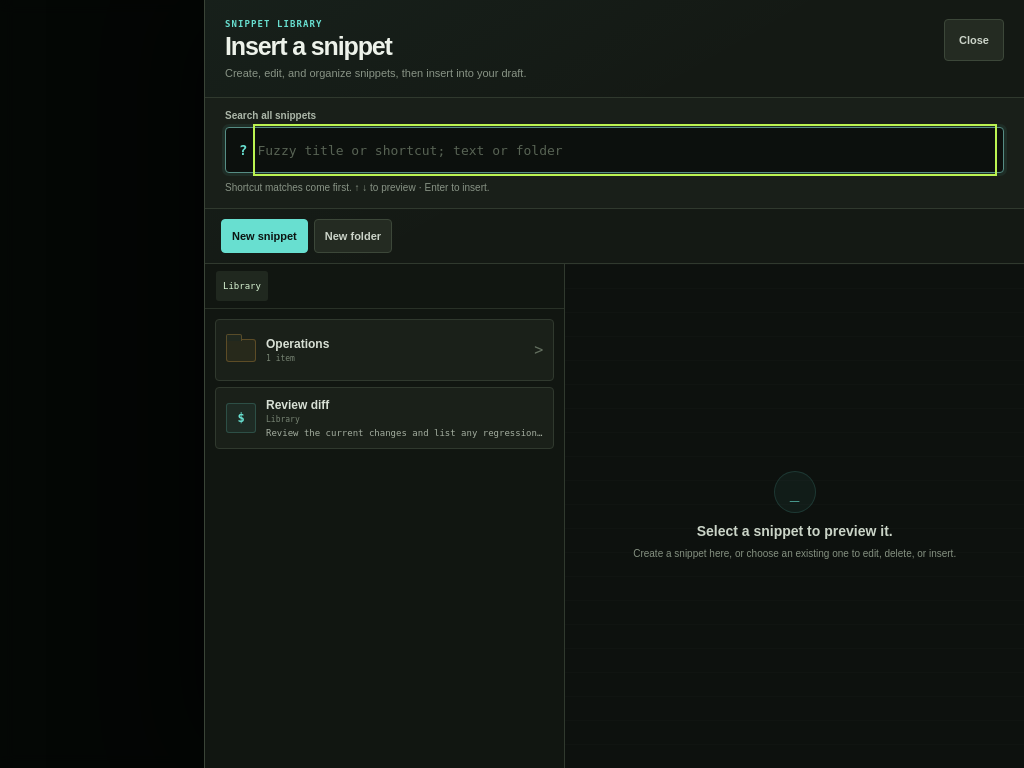
Test: SnippetPickerDialog › retains the picker and reports a rejected insertion
Step 1. Click the button with aria-label "Preview snippet Review diff" → [298, 405], box top-left (215, 387), bottom-right (554, 449)
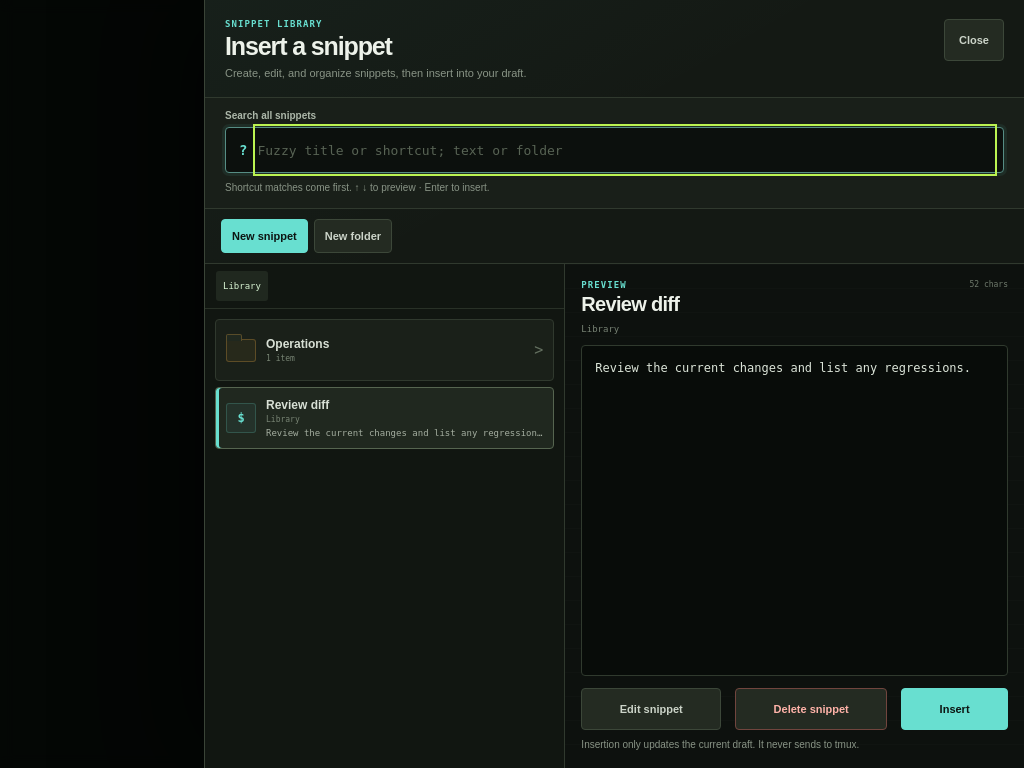
Step 2. Click the button "Insert" → [955, 709], box top-left (901, 688), bottom-right (1008, 730)
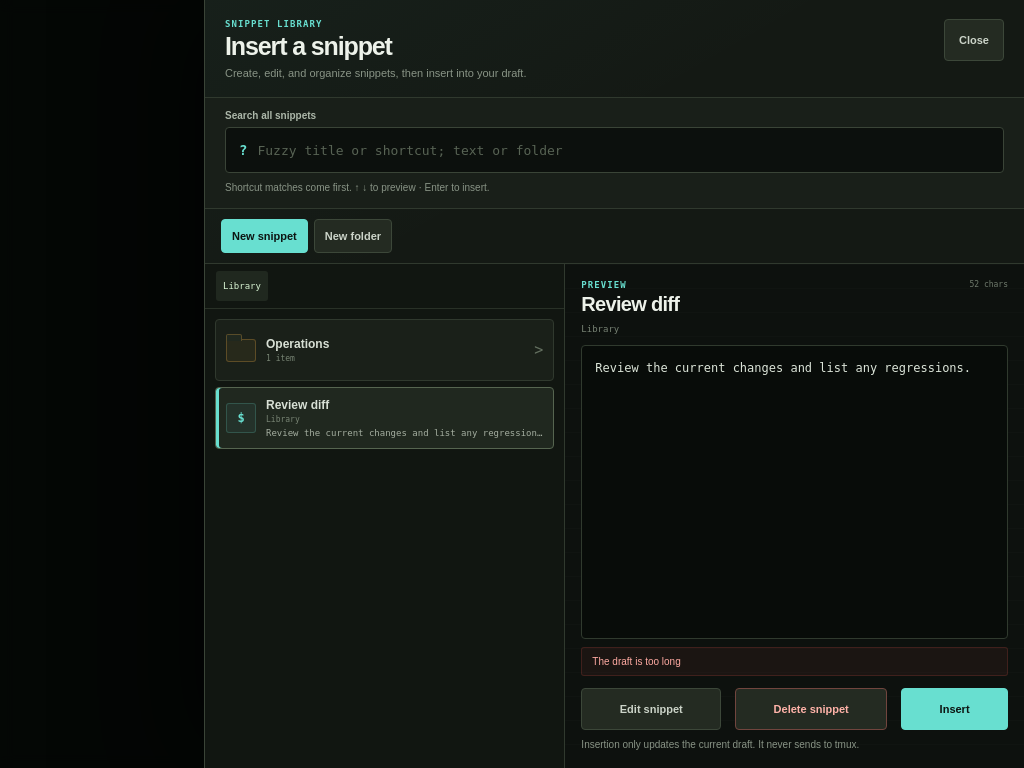
Result: the button "Insert" is enabled at top-left (901, 688), bottom-right (1008, 730)
Result: the message reads "The draft is too long" at top-left (592, 656), bottom-right (681, 667)
